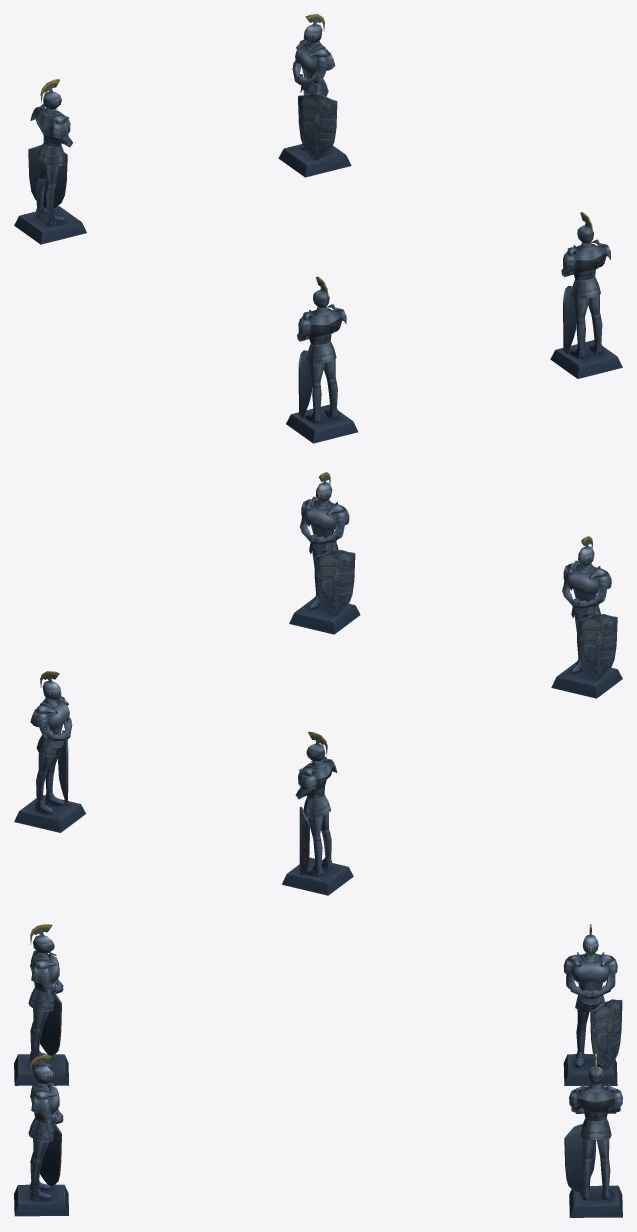
File: wujian32.fbx
3 renders of one model, top to bottom at view 1: azimuth 30°, elevation 25°; view 2: azimuth 150°, elevation 25°; view 3: azimuth 270°, elevation 25°, orthographic.
Visible parts, largest first — view 1: wujian32; view 2: wujian32; view 3: wujian32.
Boxes of the visible parts, x1=… form: wujian32: x1=14, y1=14, x2=622, y2=443; wujian32: x1=14, y1=472, x2=622, y2=895; wujian32: x1=14, y1=924, x2=622, y2=1217.
Bounding box in the file's own units: 1300 × 579 × 2133.
Materials: 1 (1 with a texture image).
